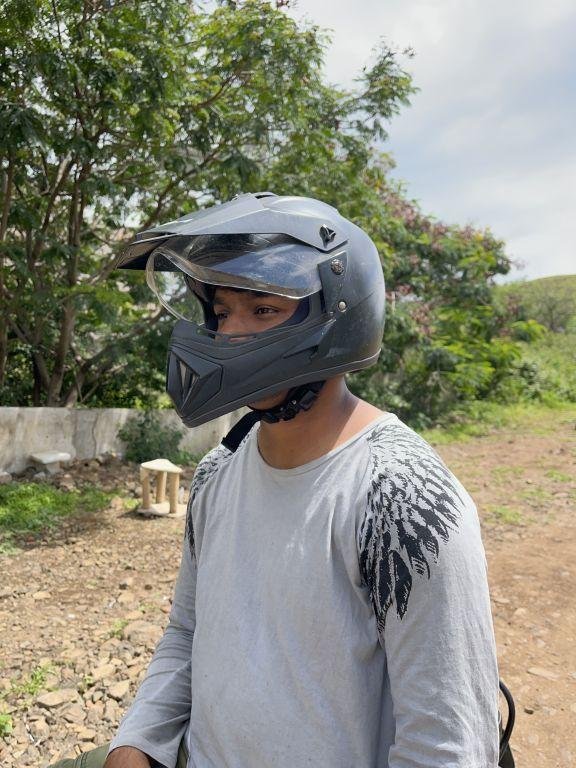helmet: (104, 167, 404, 435)
